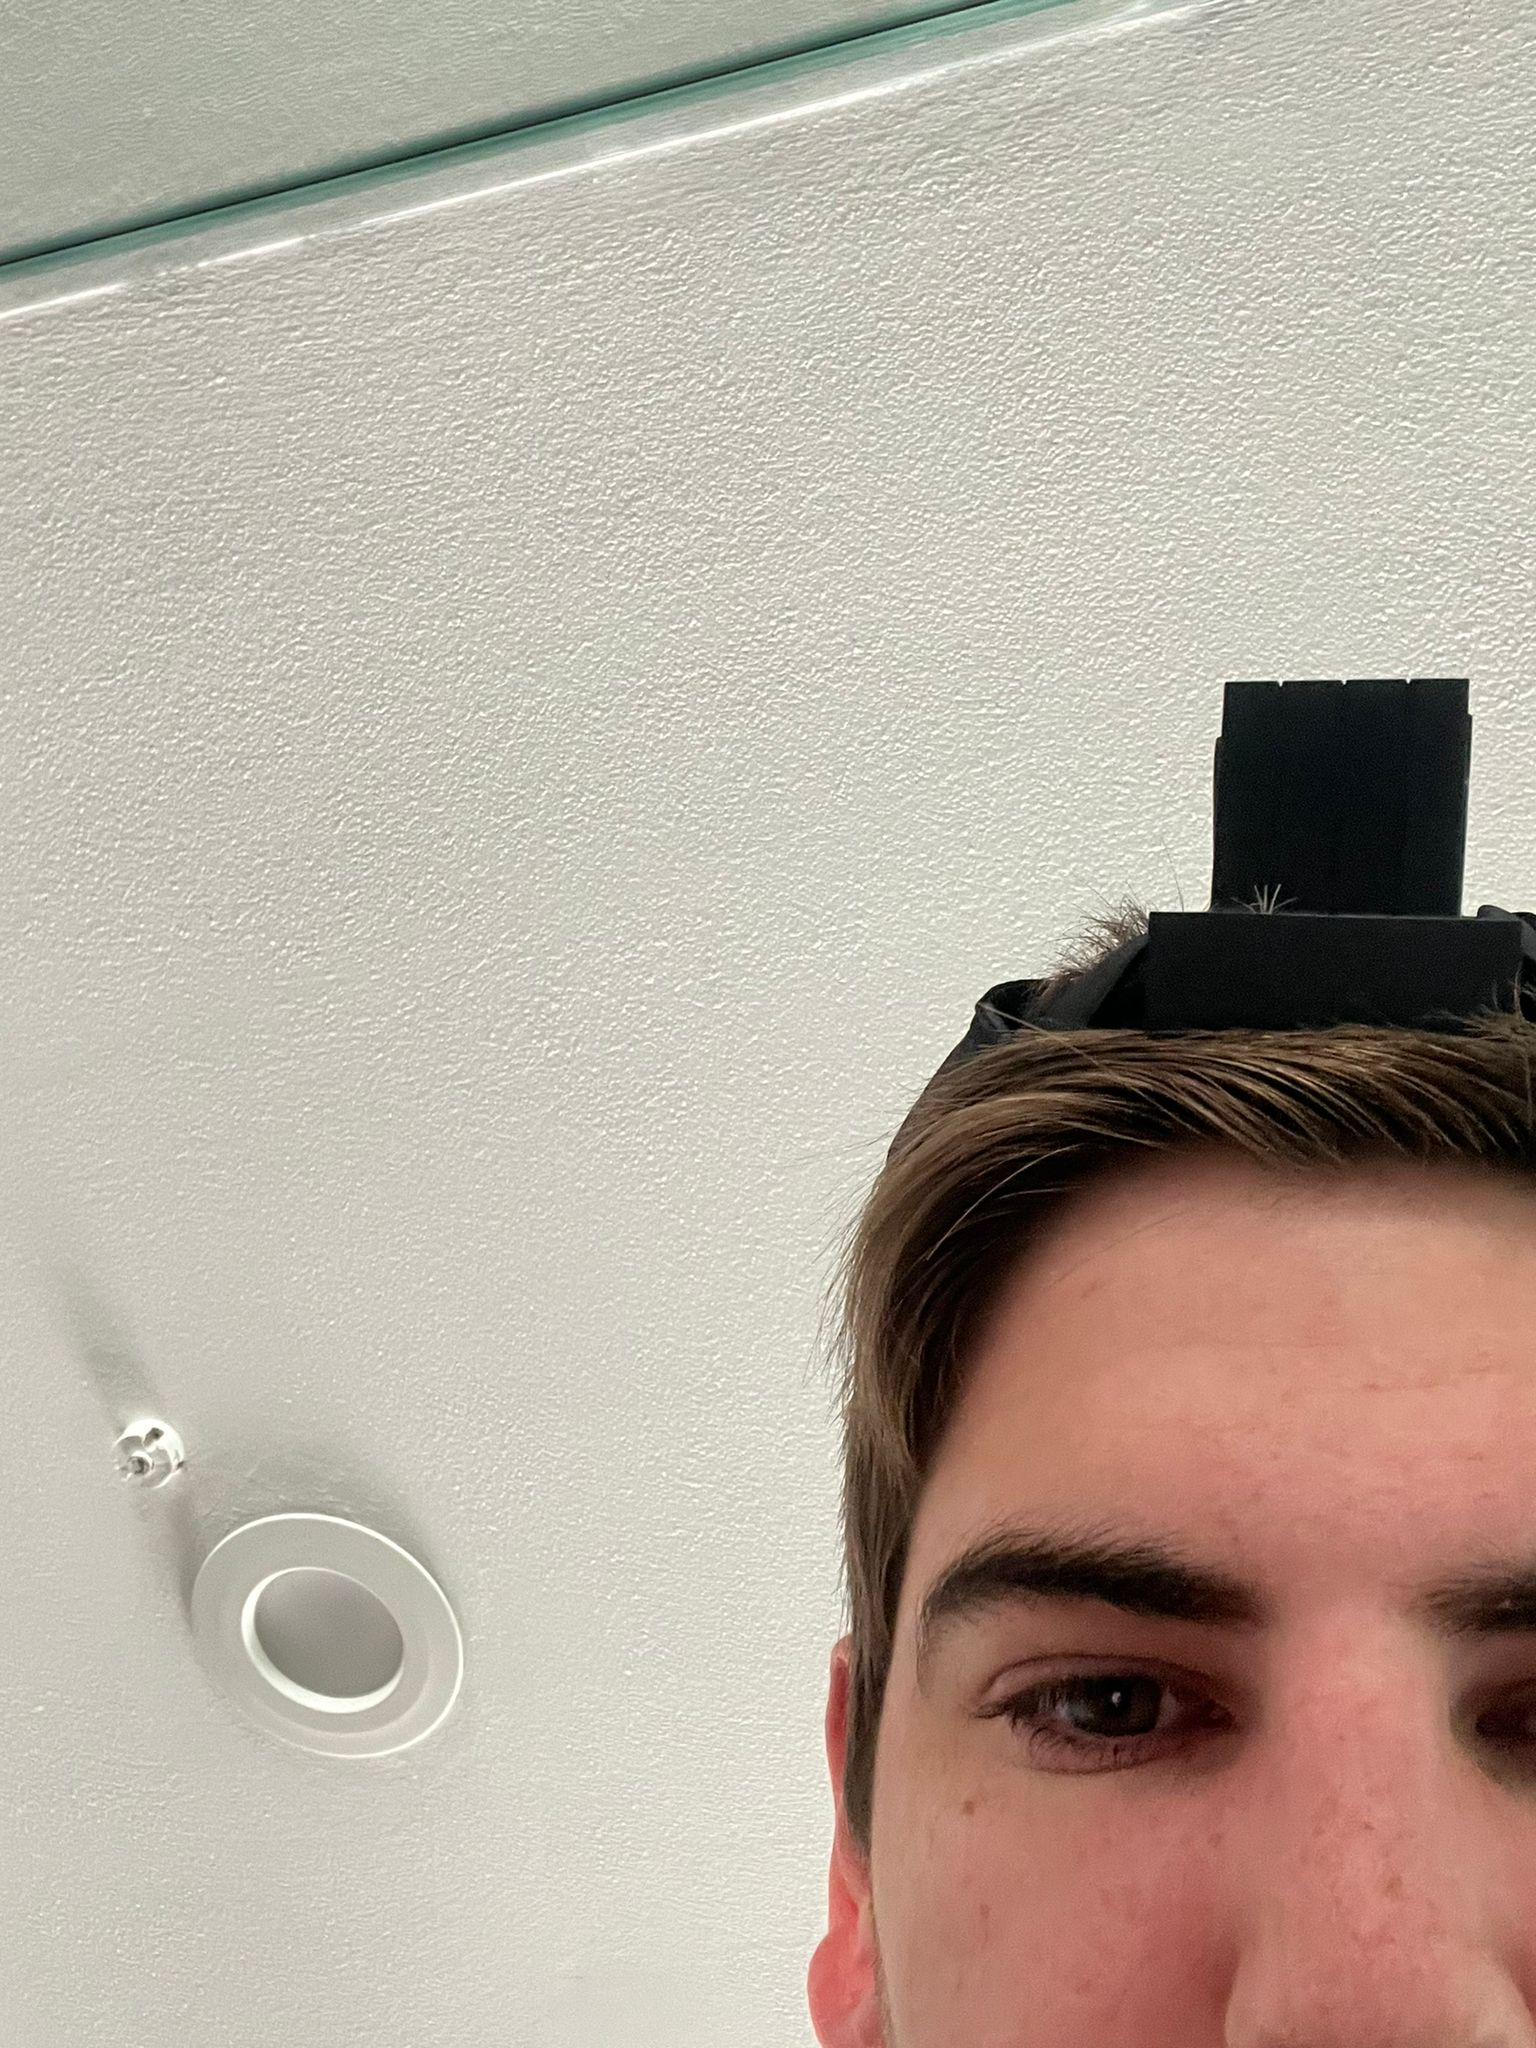tefillin: (1139, 676, 1528, 1027)
